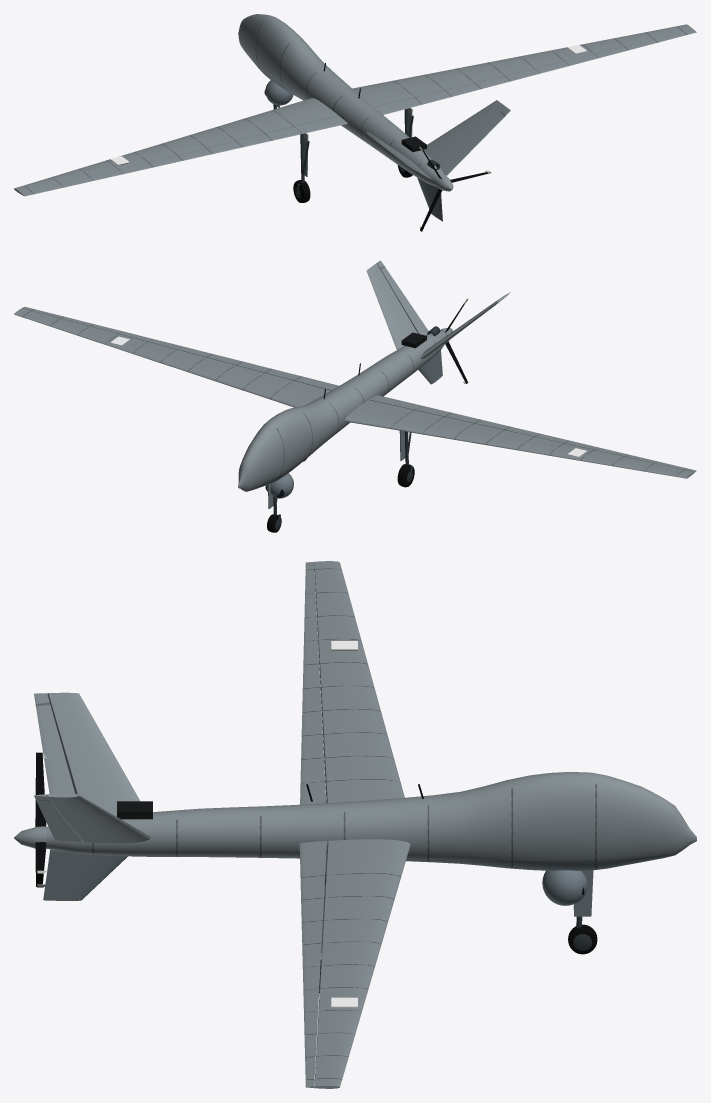
The model's file is recon_uav.glb.
The picture shows the model from 3 angles, top to bottom: view 1: azimuth 30°, elevation 25°; view 2: azimuth 150°, elevation 25°; view 3: azimuth 270°, elevation 25°; orthographic projection. The views are drawn at different scales.
Parts seen in each view (by area): view 1: hull, aileron_L, aileron_R, elevator_R, gear_L, propeller, sensor; view 2: hull, aileron_L, aileron_R, elevator_R, gear_L, sensor; view 3: hull, aileron_R, aileron_L, elevator_L, propeller, sensor, gear_N, elevator_R.
Boxes of the visible parts, left/top/right/bottom form: hull: left=14, top=14, right=693, bottom=221; aileron_L: left=22, top=116, right=347, bottom=196; aileron_R: left=374, top=30, right=696, bottom=114; elevator_R: left=440, top=107, right=510, bottom=175; gear_L: left=293, top=133, right=310, bottom=202; propeller: left=419, top=146, right=490, bottom=231; sensor: left=264, top=80, right=293, bottom=105; hull: left=14, top=263, right=694, bottom=491; aileron_L: left=369, top=395, right=696, bottom=472; aileron_R: left=22, top=306, right=339, bottom=390; elevator_R: left=377, top=260, right=428, bottom=335; gear_L: left=397, top=430, right=414, bottom=487; sensor: left=265, top=473, right=293, bottom=498; hull: left=43, top=561, right=696, bottom=1088; aileron_R: left=299, top=841, right=326, bottom=1087; aileron_L: left=300, top=562, right=326, bottom=804; elevator_L: left=34, top=693, right=75, bottom=793; propeller: left=14, top=752, right=46, bottom=887; sensor: left=542, top=870, right=587, bottom=905; gear_N: left=568, top=870, right=597, bottom=954; elevator_R: left=34, top=794, right=82, bottom=841.
Bounding box in the file's own units: 20 × 3.73 × 11.
1 material, 1 textured.
